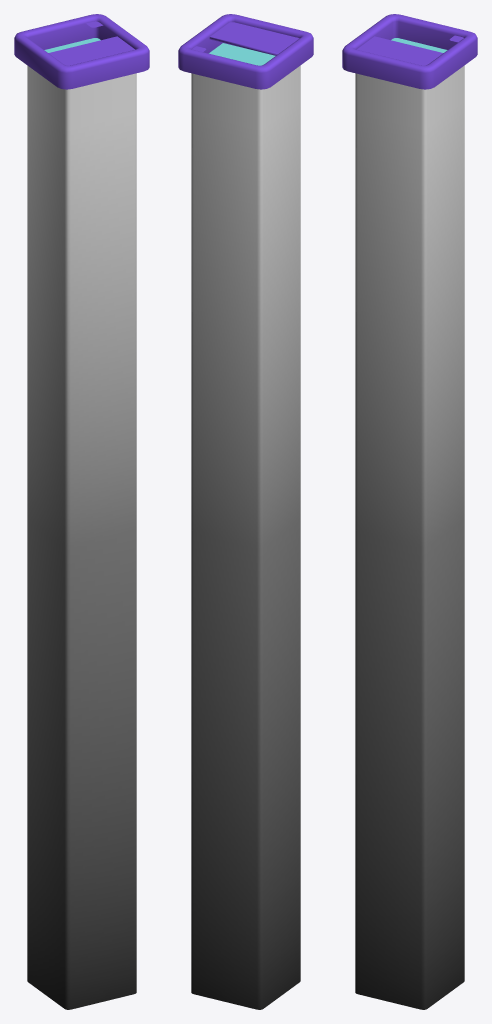
File: Square_1x.fbx
3 renders of one model, left to right at view 1: azimuth 30°, elevation 25°; view 2: azimuth 150°, elevation 25°; view 3: azimuth 330°, elevation 25°, orthographic.
Visible parts, largest first — view 1: Square_1x, Square_1x_Cap; view 2: Square_1x, Square_1x_Cap, Square_1x_Stencil; view 3: Square_1x, Square_1x_Cap.
Boxes of the visible parts, left/top/right/bottom form: Square_1x: left=14, top=14, right=149, bottom=1009; Square_1x_Cap: left=48, top=36, right=134, bottom=65; Square_1x: left=178, top=14, right=313, bottom=1009; Square_1x_Cap: left=209, top=22, right=299, bottom=55; Square_1x_Stencil: left=209, top=43, right=275, bottom=65; Square_1x: left=342, top=14, right=477, bottom=1009; Square_1x_Cap: left=357, top=36, right=443, bottom=65.
Size of the model in its own units: 1 by 9.94 by 1.
3 materials, 1 textured.
